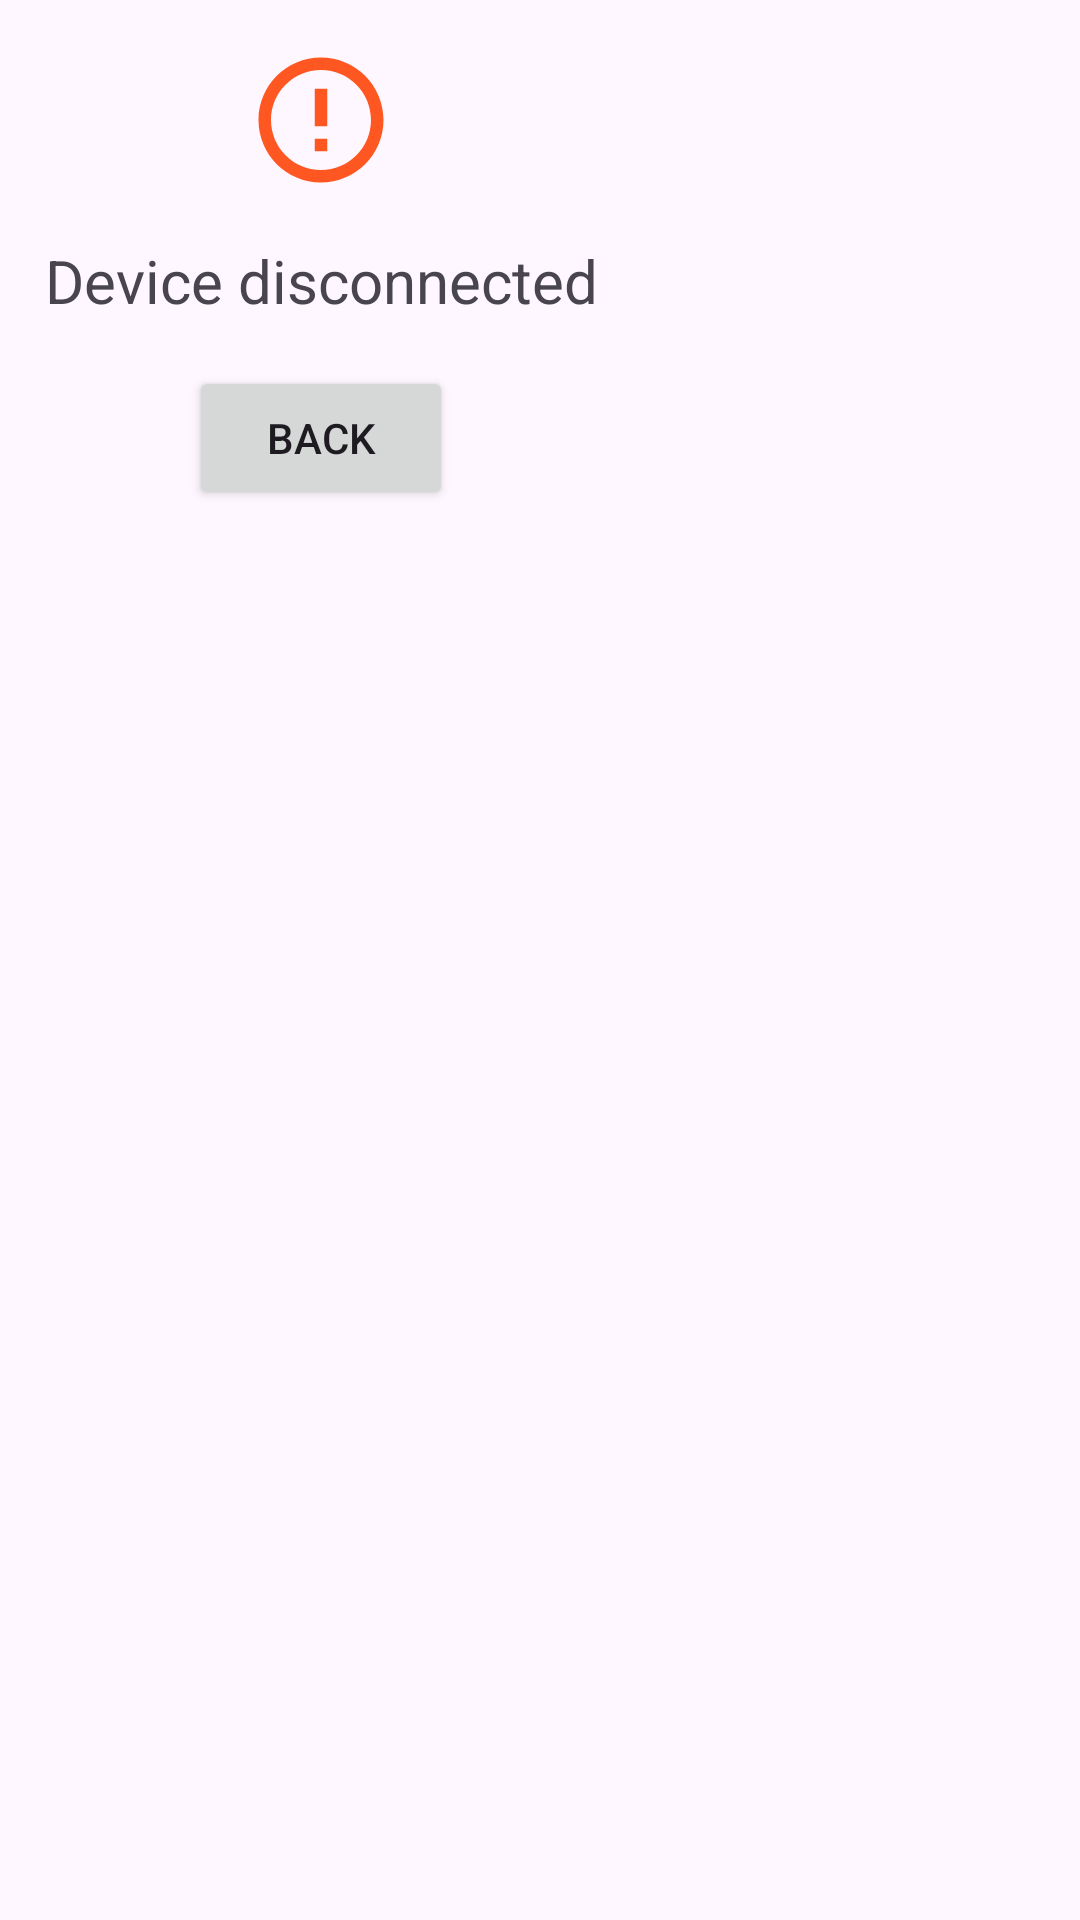

Where to tap for icons on this 1080px x 1920px app screen, as point (x, y):
error: point (321, 120)
